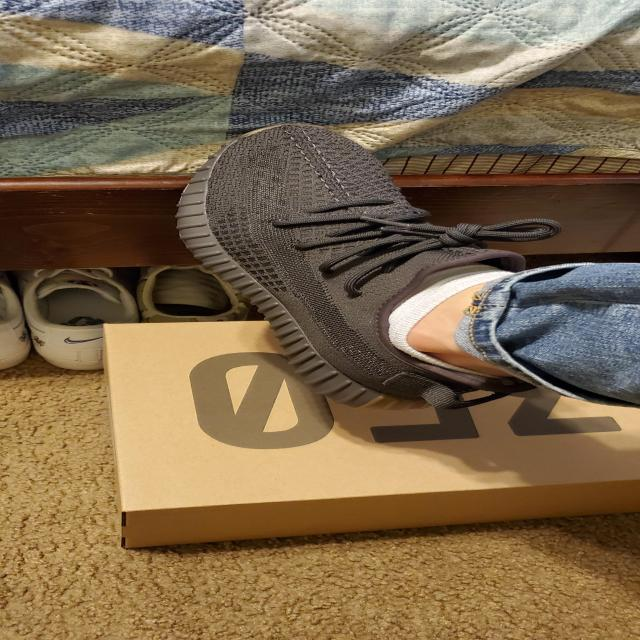shoe: (175, 123, 552, 421), (19, 268, 140, 372)
